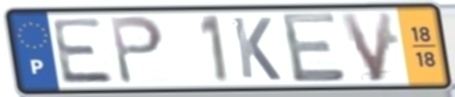1: (197, 13, 231, 86)
E: (278, 10, 350, 86), (48, 16, 118, 86)
K: (229, 15, 284, 83)
P: (107, 14, 167, 87)
V: (336, 9, 397, 85)
